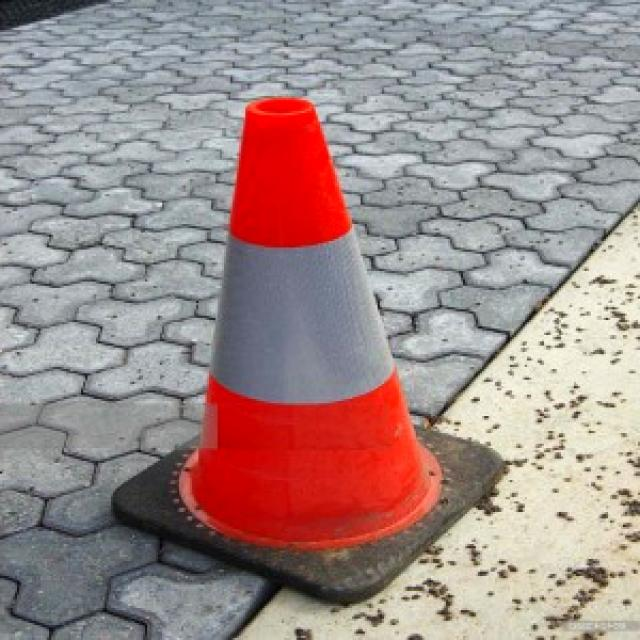cone: (111, 94, 510, 606)
